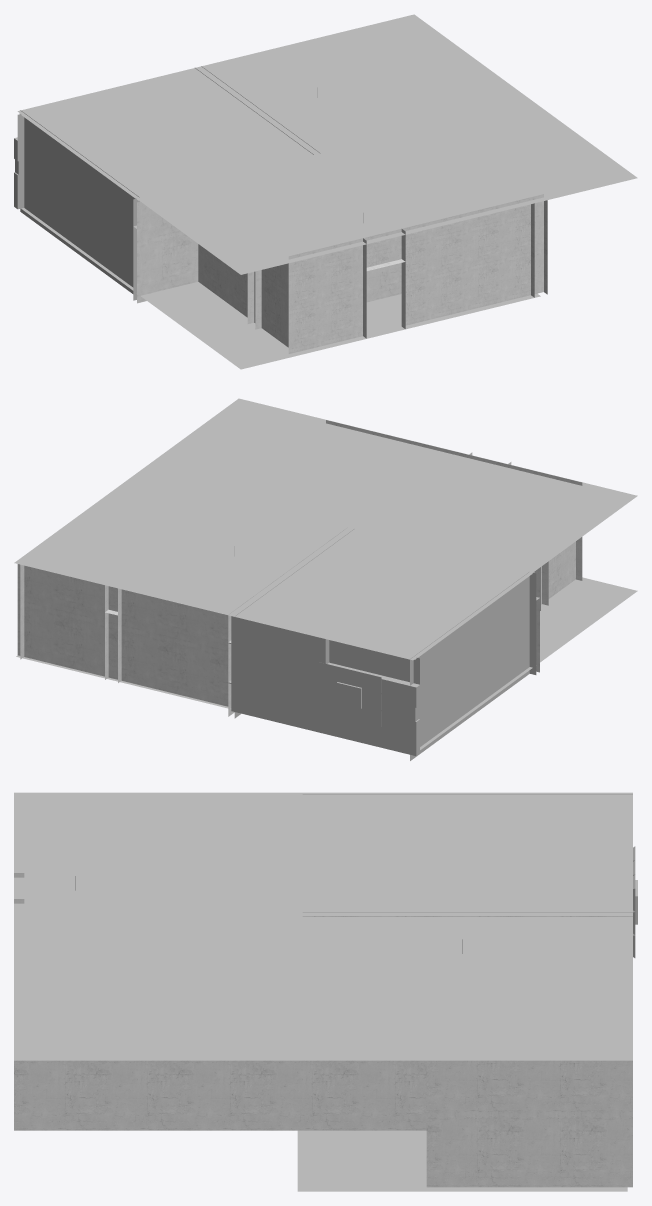
The model's file is chamber035.fbx.
3 renders of one model, top to bottom at view 1: azimuth 30°, elevation 25°; view 2: azimuth 150°, elevation 25°; view 3: azimuth 270°, elevation 25°, orthographic. The views are drawn at different scales.
Parts seen in each view (by area): view 1: room035_opt; view 2: room035_opt; view 3: room035_opt.
Part boxes in pixels (x1,y1,x2,y2): room035_opt: (14,14,637,369); room035_opt: (14,398,637,760); room035_opt: (14,792,637,1191).
Bounding box in the file's own units: 14880 × 3978 × 14520.
